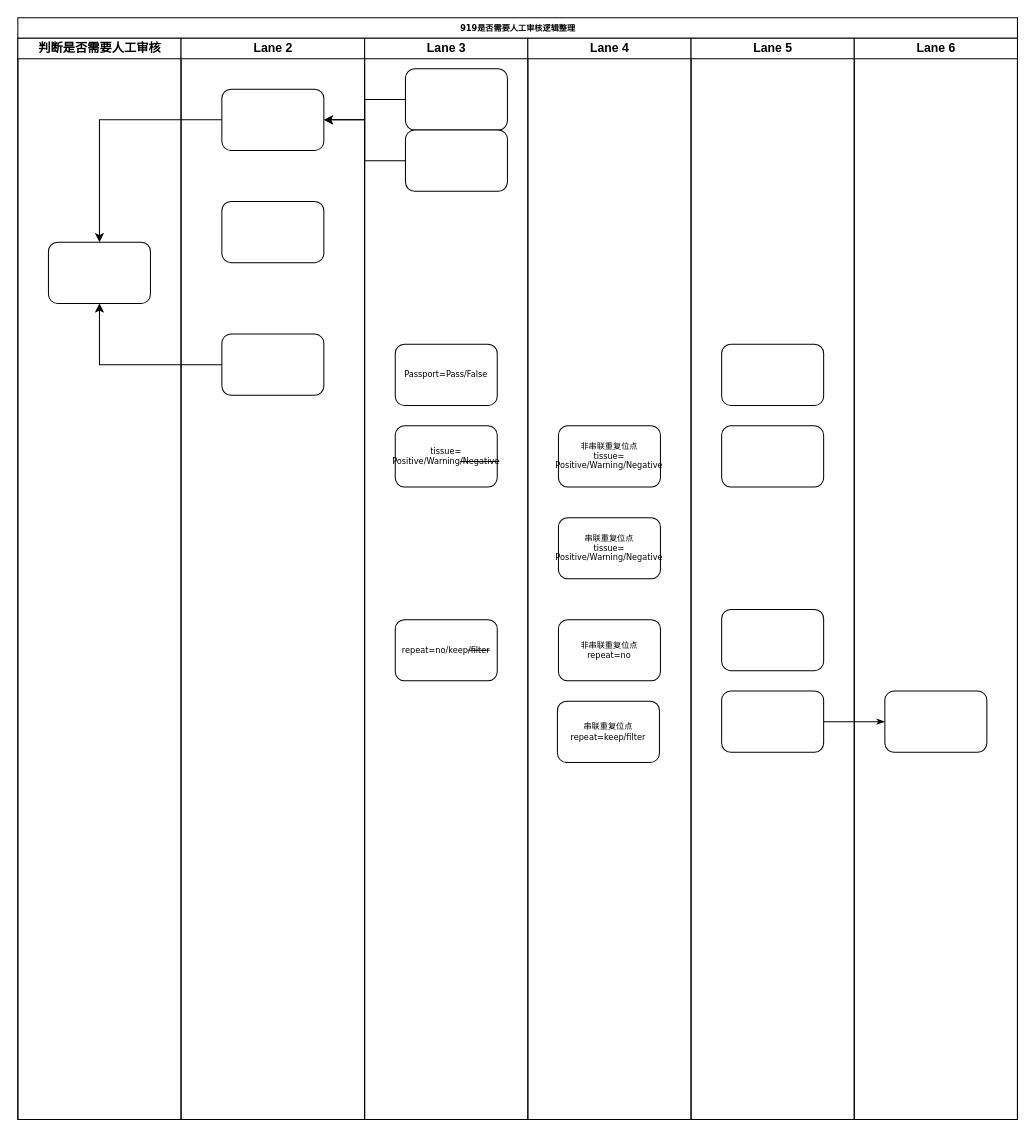
Some shapes in this 1035 by 1137 pixel diagram are drawn without their labels. Each missing label, with the centre of its shape:
"mutNet=True/Check /False" belongs at pixel 272 364.
"varType=./check" belongs at pixel 272 231.
"verify=yes" belongs at pixel 272 119.
"是否需要人工审核" belongs at pixel 98 272.
"污染验证" belongs at pixel 455 99.
"灰区验证" belongs at pixel 455 160.
